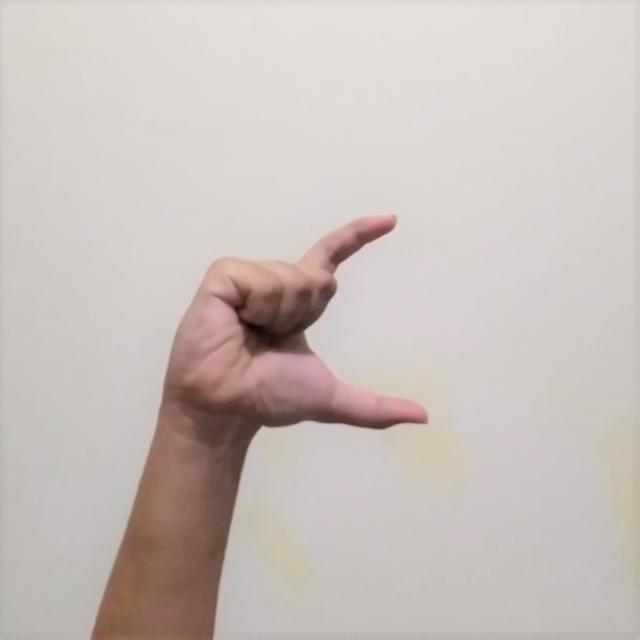C: (149, 207, 442, 442)
